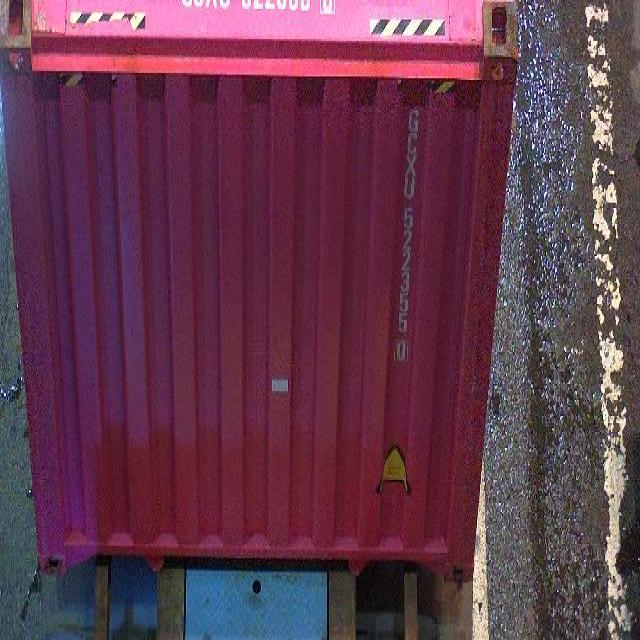container_number: (390, 95, 420, 362)
